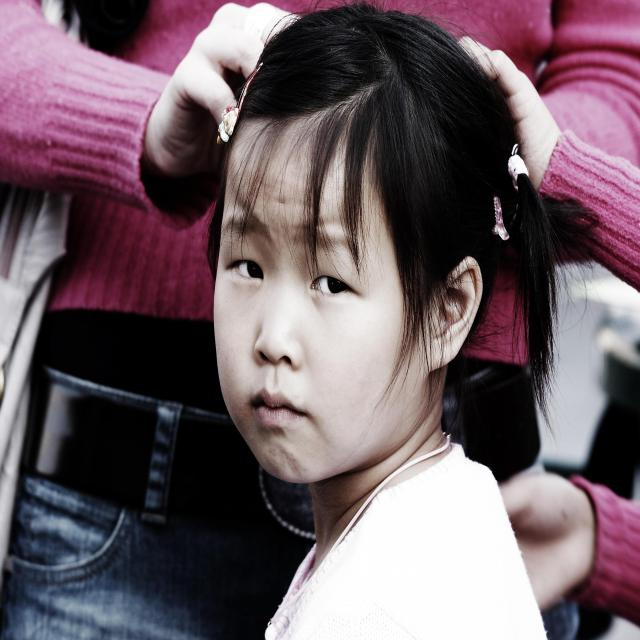no-glass: (220, 258, 366, 294)
